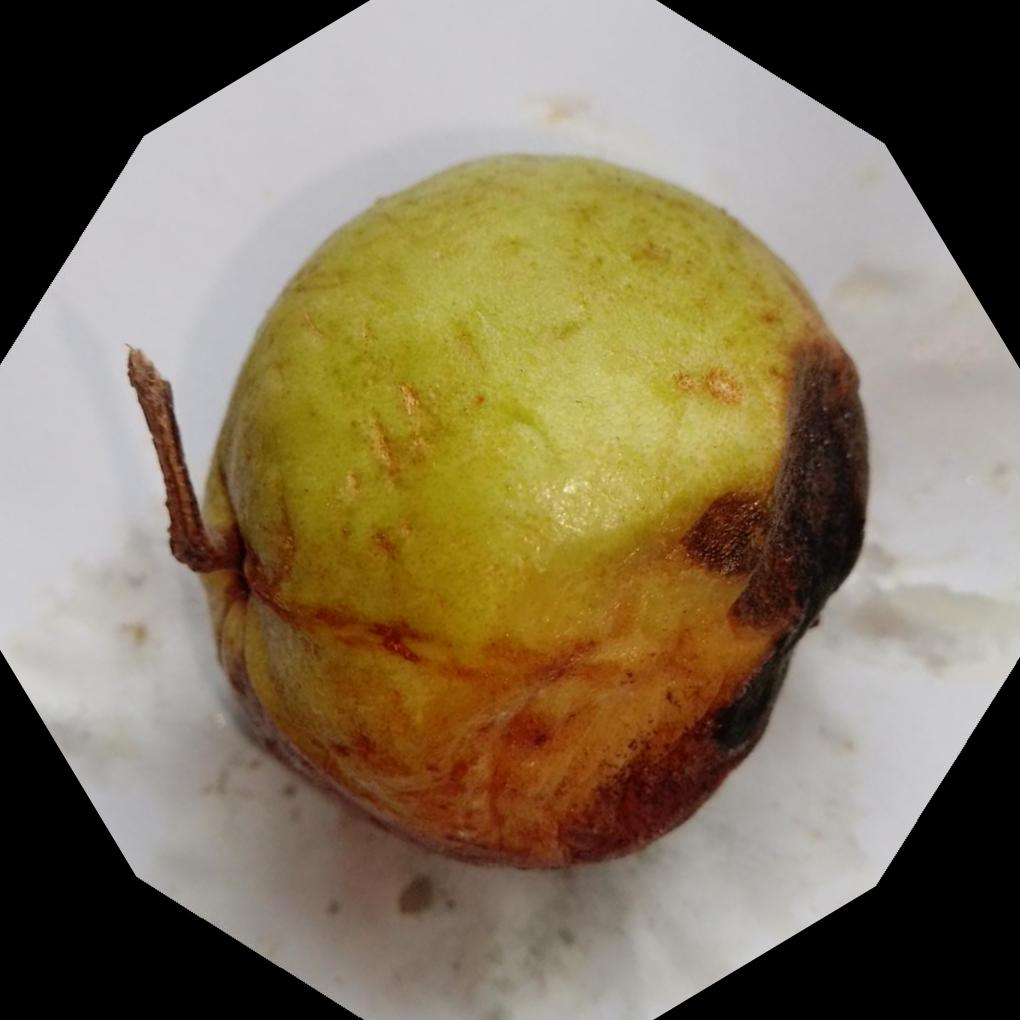FreshOrange: (161, 150, 869, 873)
